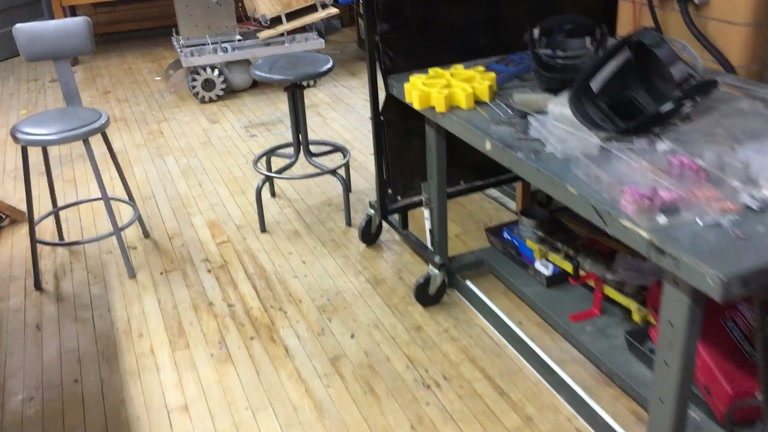gear: (403, 62, 497, 114)
